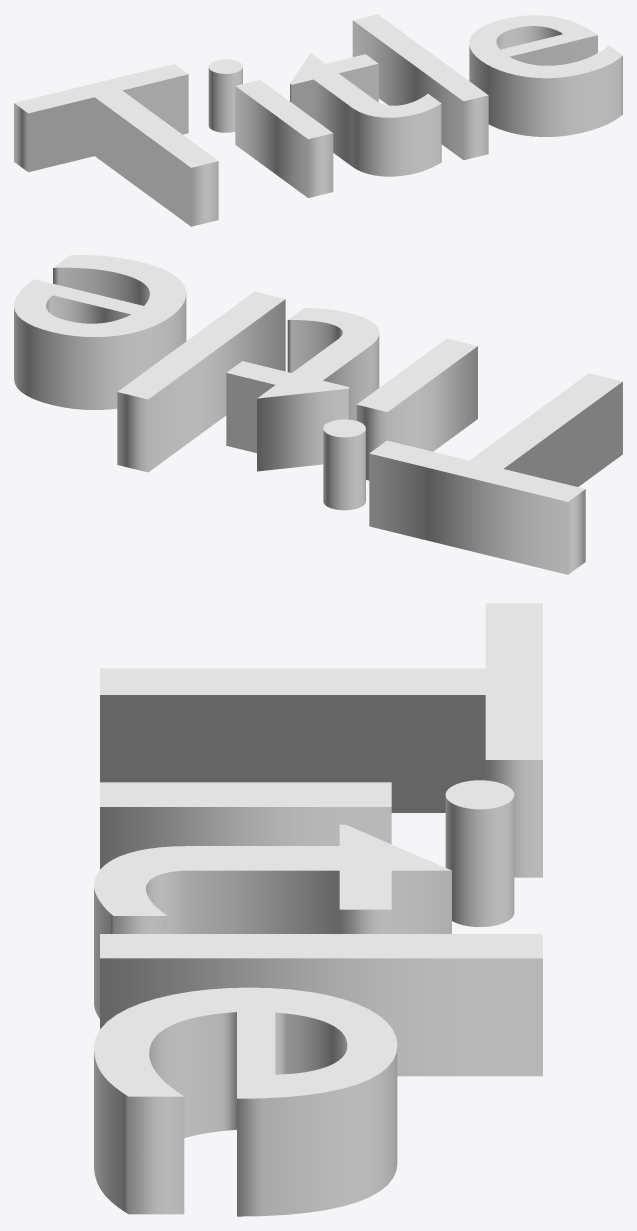
Rendered from title.obj.
The picture shows the model from 3 angles, top to bottom: view 1: azimuth 30°, elevation 25°; view 2: azimuth 150°, elevation 25°; view 3: azimuth 270°, elevation 25°; orthographic projection. The views are drawn at different scales.
Parts seen in each view (by area): view 1: テキスト; view 2: テキスト; view 3: テキスト.
Part boxes in pixels (<box>): テキスト: <box>14,14,622,226</box>; テキスト: <box>14,255,622,574</box>; テキスト: <box>94,603,542,1216</box>.
Bounding box in the file's own units: 1.8 × 0.2 × 0.691.
1 material, 1 textured.
